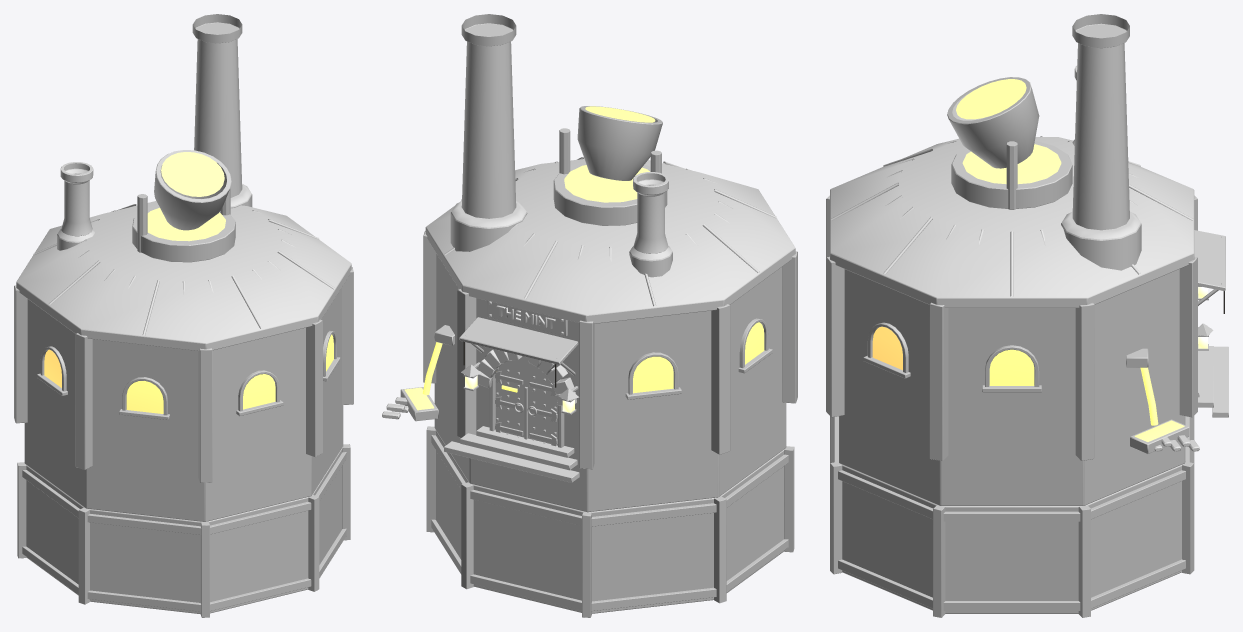
Rendered from mint.glb.
3 views of the same model, side by side, from view 1: azimuth 30°, elevation 25°; view 2: azimuth 150°, elevation 25°; view 3: azimuth 270°, elevation 25° (orthographic). The views are drawn at different scales.
Parts seen in each view (by area): view 1: ground__iron_decay, basement__iron_decay, crown__copper_decay, crown__iron_decay, crown__brick_decay, crown__molten_gold, ground__window_glass, crown__soot_iron, crown__trim_brass; view 2: ground__iron_decay, basement__iron_decay, crown__copper_decay, crown__brick_decay, crown__iron_decay, ground__stone_decay, ground__door_oak, crown__soot_iron, crown__molten_gold, ground__window_glass, ground__brick_decay, crown__trim_brass (+2 smaller); view 3: ground__iron_decay, basement__iron_decay, crown__copper_decay, crown__brick_decay, crown__iron_decay, crown__molten_gold, ground__window_glass, ground__stone_decay, crown__trim_brass, ground__molten_gold.
Boxes of the visible parts, <box> form: ground__iron_decay: <box>14,267,353,521</box>; basement__iron_decay: <box>17,444,350,617</box>; crown__copper_decay: <box>16,201,351,351</box>; crown__iron_decay: <box>132,14,242,262</box>; crown__brick_decay: <box>57,39,252,250</box>; crown__molten_gold: <box>147,152,225,241</box>; ground__window_glass: <box>44,334,333,413</box>; crown__soot_iron: <box>60,162,93,236</box>; crown__trim_brass: <box>33,204,334,335</box>; ground__iron_decay: <box>400,231,797,512</box>; basement__iron_decay: <box>426,426,794,617</box>; crown__copper_decay: <box>425,159,795,323</box>; crown__brick_decay: <box>450,41,672,277</box>; crown__iron_decay: <box>461,14,667,225</box>; ground__stone_decay: <box>444,426,579,482</box>; ground__door_oak: <box>495,356,557,445</box>; crown__soot_iron: <box>633,172,668,253</box>; crown__molten_gold: <box>564,106,655,202</box>; ground__window_glass: <box>633,322,764,393</box>; ground__brick_decay: <box>477,349,576,405</box>; crown__trim_brass: <box>444,157,776,306</box>; ground__iron_decay: <box>826,195,1225,505</box>; basement__iron_decay: <box>830,416,1194,617</box>; crown__copper_decay: <box>830,137,1194,307</box>; crown__brick_decay: <box>1061,43,1141,270</box>; crown__iron_decay: <box>947,14,1129,209</box>; crown__molten_gold: <box>956,79,1061,184</box>; ground__window_glass: <box>872,326,1034,385</box>; ground__stone_decay: <box>1198,346,1228,417</box>; crown__trim_brass: <box>830,136,1193,296</box>; ground__molten_gold: <box>1134,367,1184,441</box>.
Bounding box in the file's own units: 10.01 × 16.5 × 10.84.
